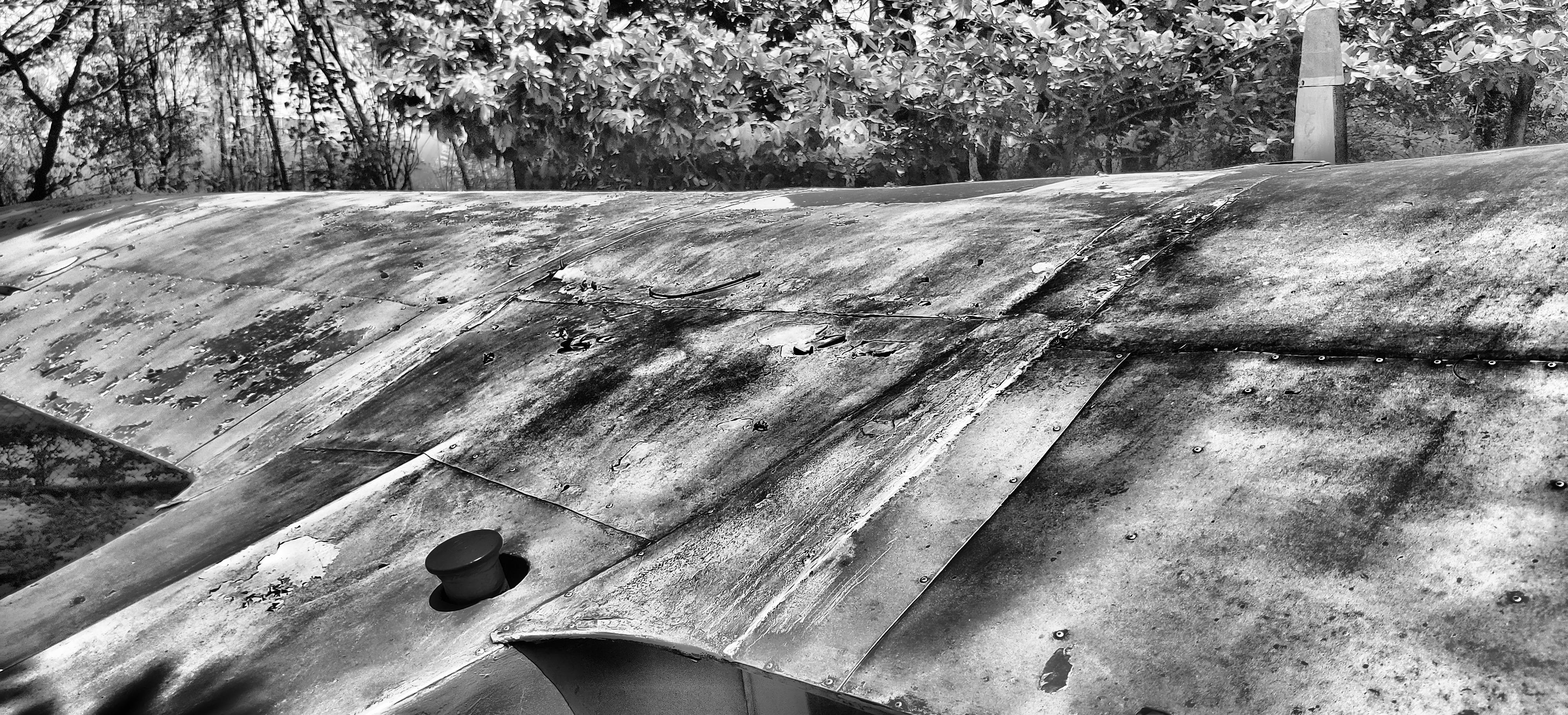missing-head: (1169, 226, 1184, 234), (1095, 287, 1108, 295)
paint-peel-off: (195, 290, 374, 407), (208, 533, 341, 612), (126, 360, 194, 408), (753, 320, 829, 357), (1095, 251, 1152, 297), (1039, 646, 1074, 695), (611, 439, 660, 473), (557, 330, 613, 354), (550, 272, 585, 306), (843, 338, 905, 357), (109, 418, 152, 442), (1048, 323, 1078, 349), (180, 389, 207, 410), (779, 276, 808, 293), (867, 292, 904, 303), (828, 292, 855, 303)
